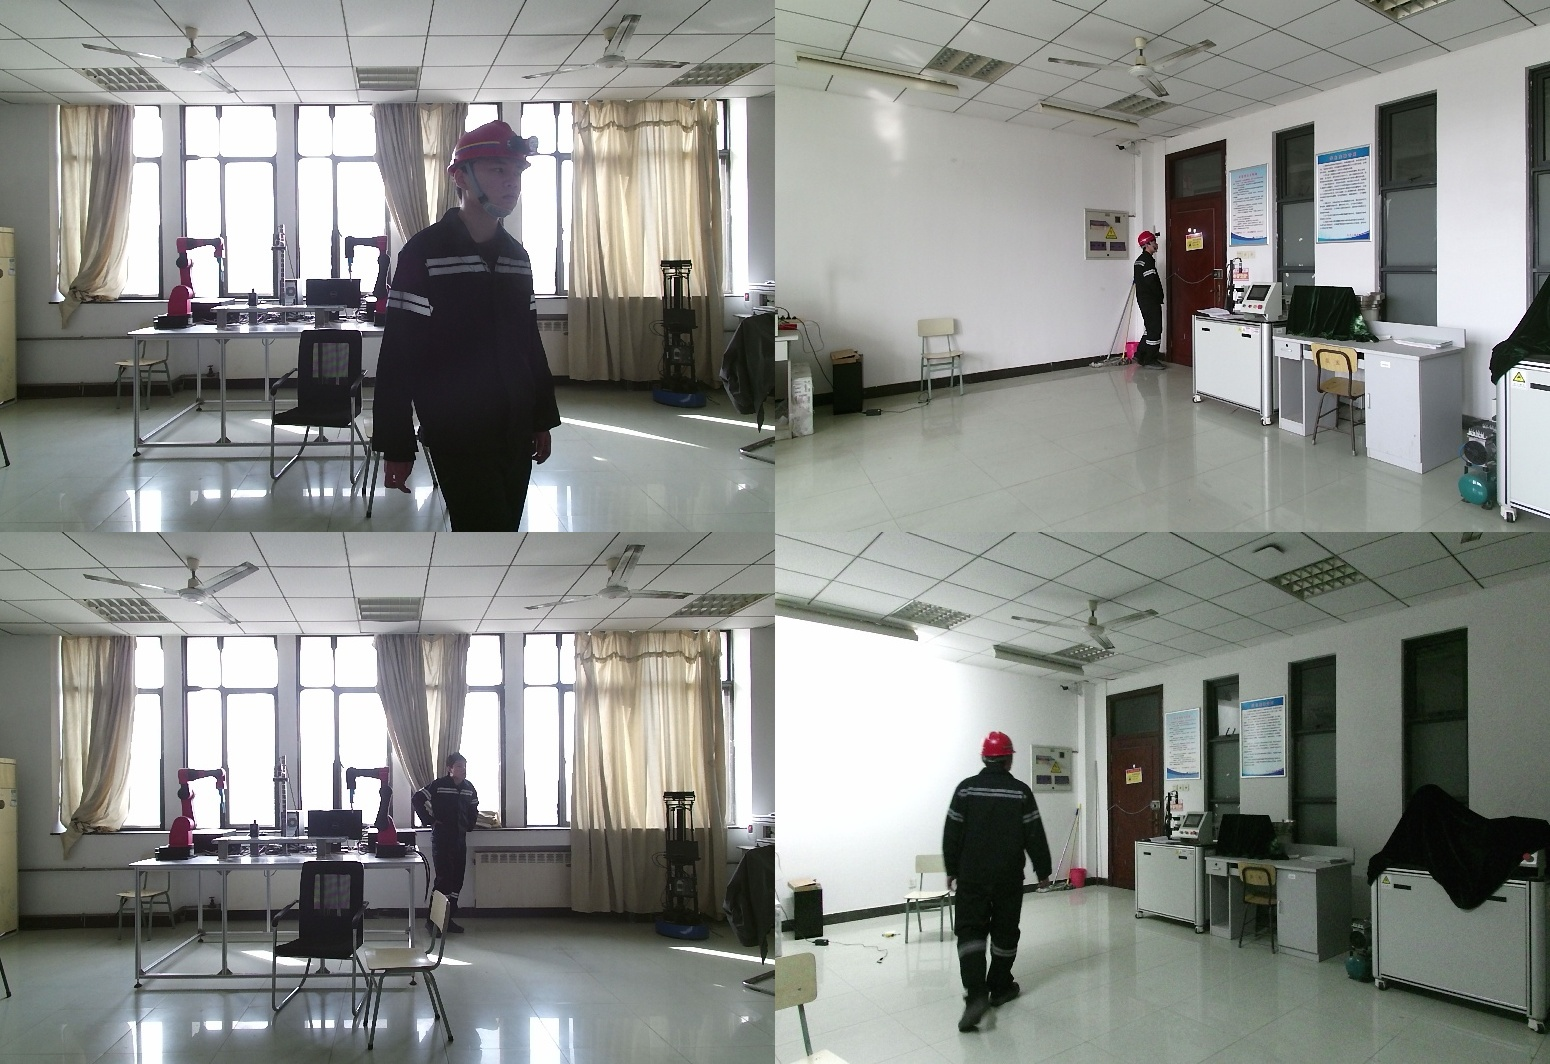person: (383, 121, 571, 532), (932, 734, 1046, 1035), (413, 755, 479, 943), (1130, 229, 1165, 372)
